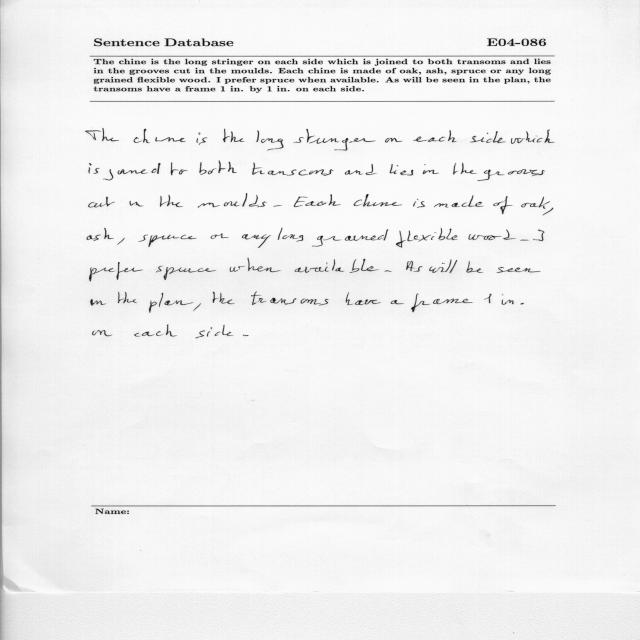word: (293, 129, 376, 150), (312, 229, 388, 247), (396, 228, 458, 248), (295, 259, 379, 273), (253, 162, 334, 176), (251, 292, 328, 306), (90, 262, 143, 282), (103, 163, 161, 180), (198, 194, 267, 208), (453, 163, 504, 181), (149, 293, 194, 313), (156, 266, 216, 280), (134, 129, 186, 143), (230, 258, 281, 272), (139, 235, 197, 247), (511, 129, 554, 144), (294, 194, 341, 207), (521, 197, 553, 216), (434, 196, 484, 208), (354, 194, 402, 206), (257, 130, 284, 151), (199, 161, 237, 175), (413, 130, 457, 142), (135, 325, 178, 337), (196, 325, 233, 338), (469, 230, 517, 240), (346, 292, 381, 305), (85, 129, 119, 142), (470, 131, 506, 143), (242, 234, 271, 248), (429, 259, 457, 273), (411, 293, 430, 312), (493, 196, 513, 214), (345, 164, 377, 175), (87, 228, 114, 241), (278, 228, 303, 242), (484, 294, 514, 305), (89, 197, 115, 208), (160, 195, 183, 207), (223, 129, 244, 142), (390, 164, 414, 175), (497, 267, 541, 273), (213, 292, 235, 304), (508, 169, 545, 176), (171, 163, 188, 176), (118, 292, 137, 303), (466, 261, 483, 273), (433, 299, 472, 304), (406, 261, 423, 272), (423, 164, 439, 174), (197, 133, 208, 145), (533, 230, 544, 241), (93, 330, 112, 336), (89, 163, 99, 174), (413, 199, 425, 208), (211, 233, 229, 239), (91, 299, 106, 306), (385, 138, 403, 143), (130, 201, 144, 207), (193, 304, 201, 312), (117, 238, 125, 245), (391, 300, 404, 304), (520, 239, 529, 241), (274, 205, 282, 207), (385, 270, 392, 272), (543, 205, 545, 209), (243, 335, 249, 336), (520, 303, 524, 304), (502, 294, 503, 296)
